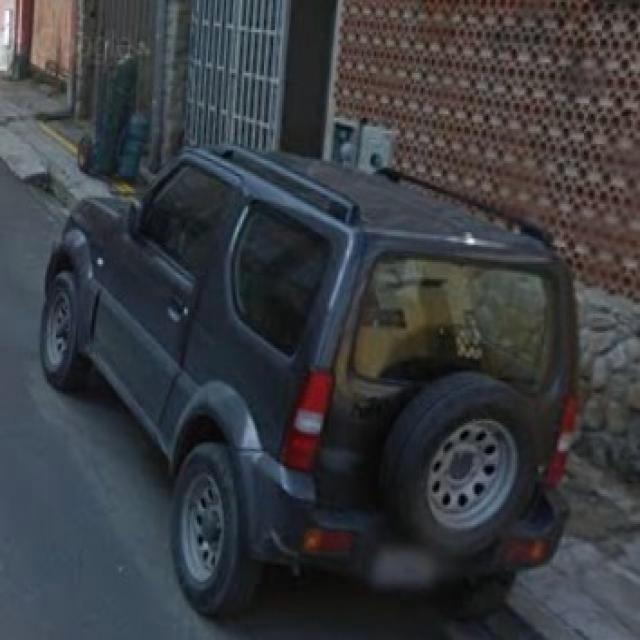Car: (44, 139, 568, 623)
